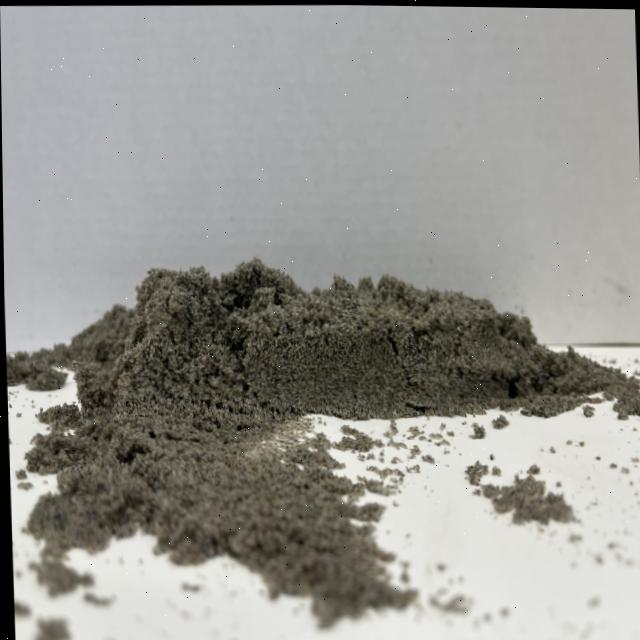sand: (4, 232, 631, 475)
